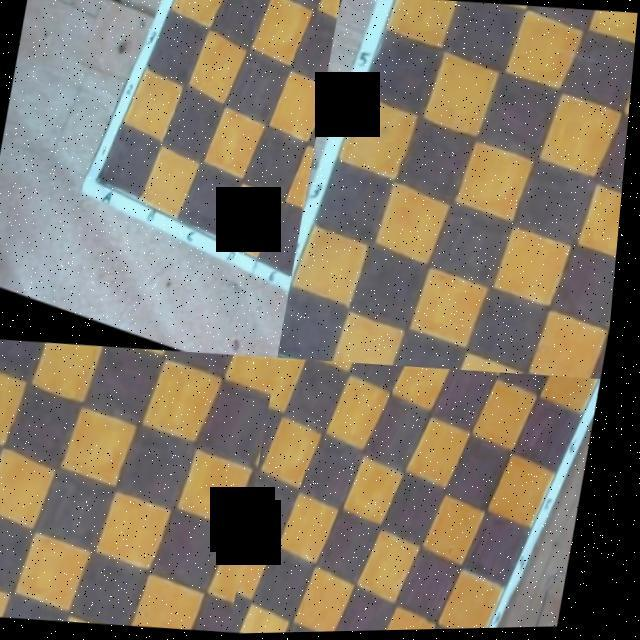chess-table-corners: (284, 340, 292, 359), (98, 177, 104, 184), (243, 606, 248, 614)
